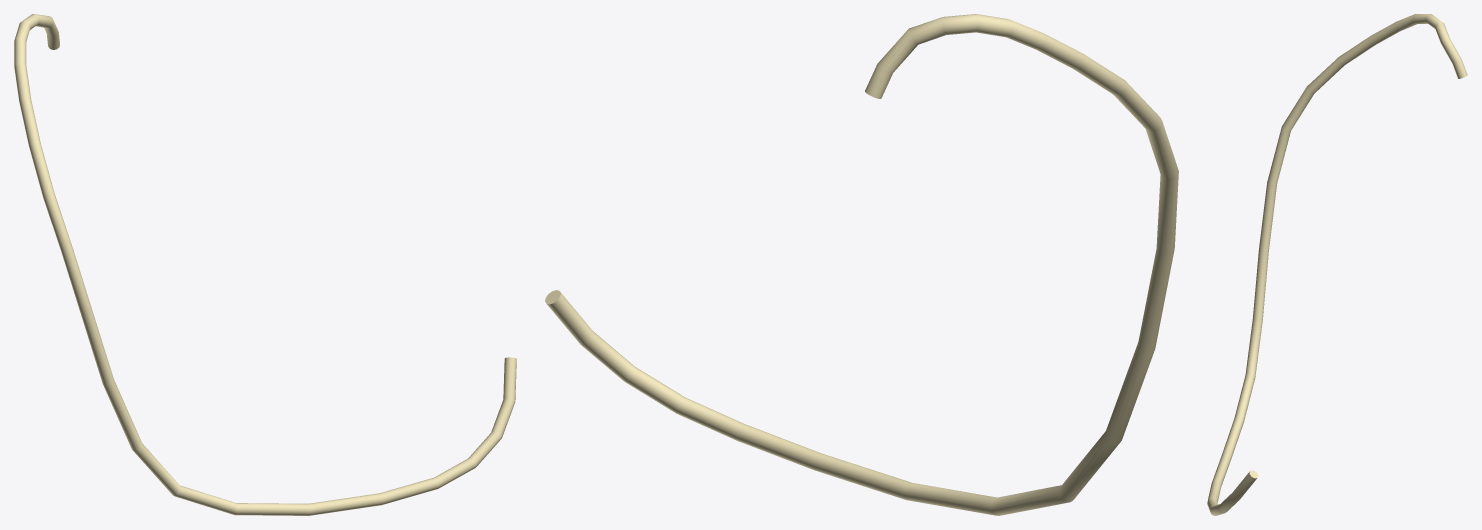
3 views of the same model, side by side, from view 1: azimuth 30°, elevation 25°; view 2: azimuth 150°, elevation 25°; view 3: azimuth 270°, elevation 25° (orthographic). The views are drawn at different scales.
Visible parts, largest first — view 1: Line007; view 2: Line007; view 3: Line007.
Part boxes in pixels (x1,y1,x2,y2): Line007: [14, 14, 516, 515]; Line007: [545, 14, 1178, 515]; Line007: [1207, 14, 1467, 515].
Bounding box in the file's own units: 8.32 × 8.11 × 5.04.
